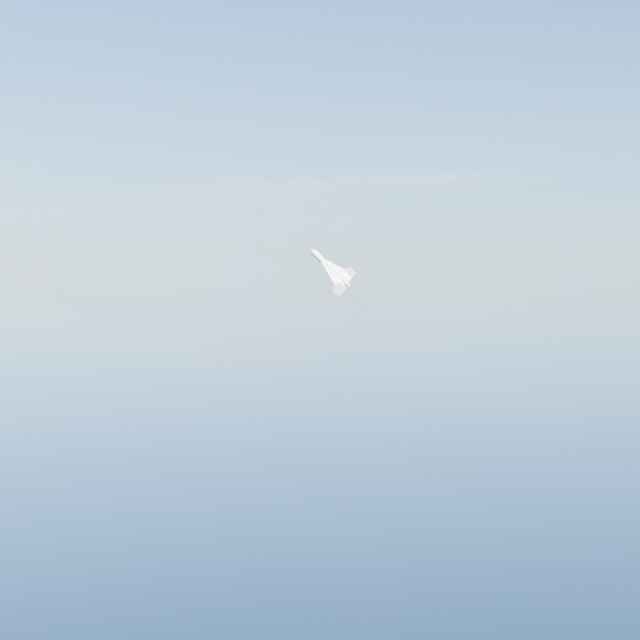shahed: (310, 249, 356, 297)
